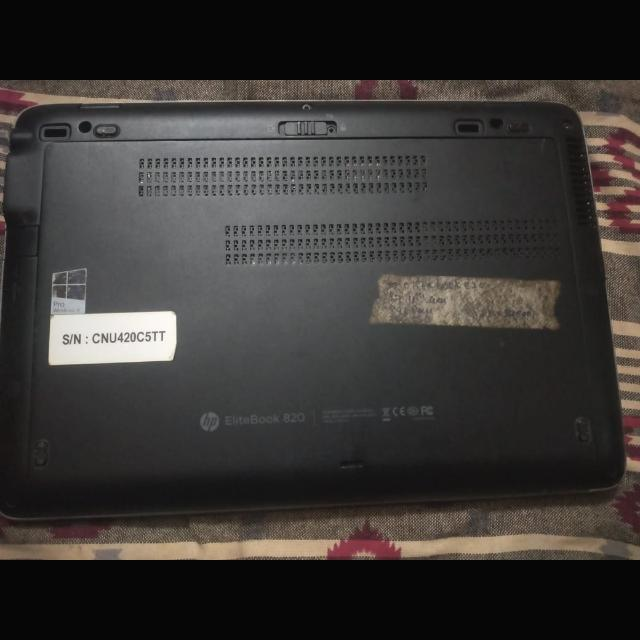laptop: (6, 100, 624, 524)
